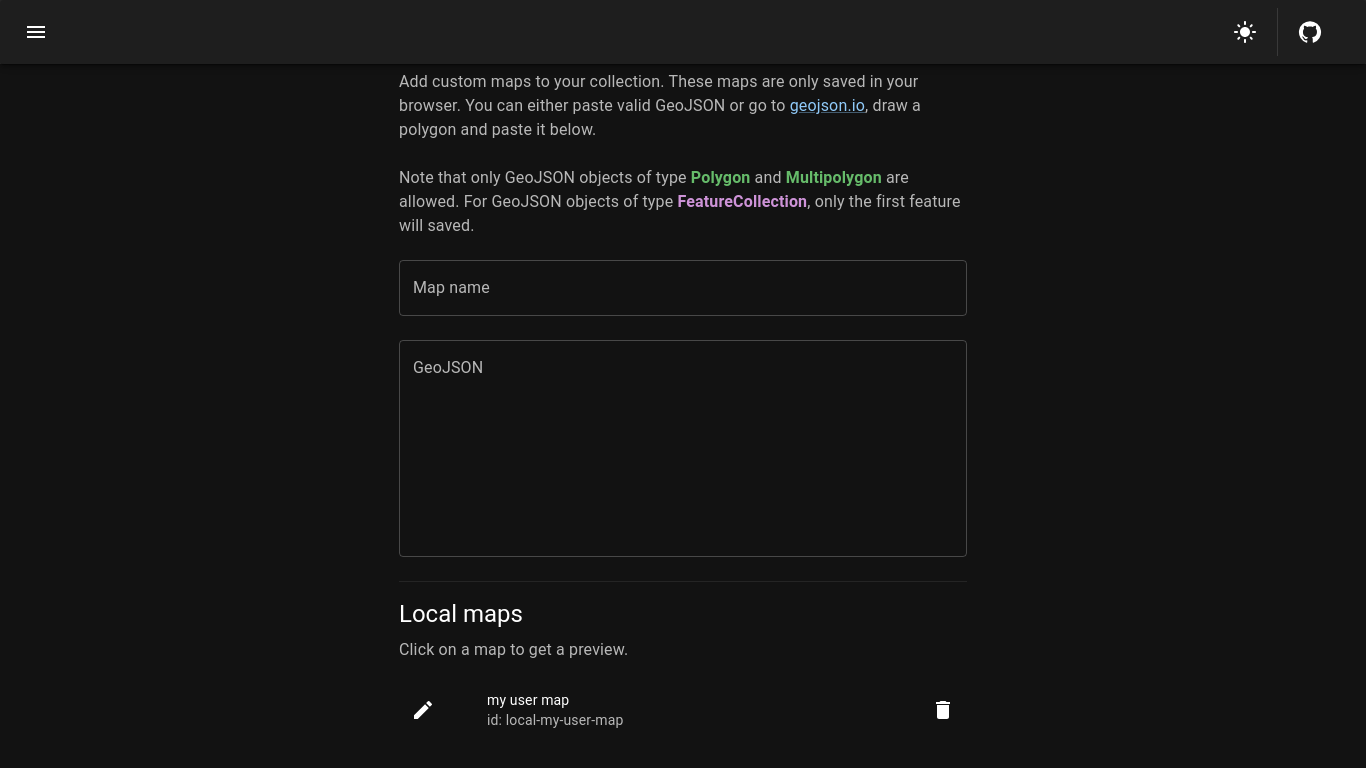
Test case: Integration, local map handling › allows editing local maps
(page scrolled)
Expected: the text box labelled "GeoJSON" is empty, 413,356 -> 953,540
Click the button named "edit-map-icon": (423, 710) 403,690 -> 443,730
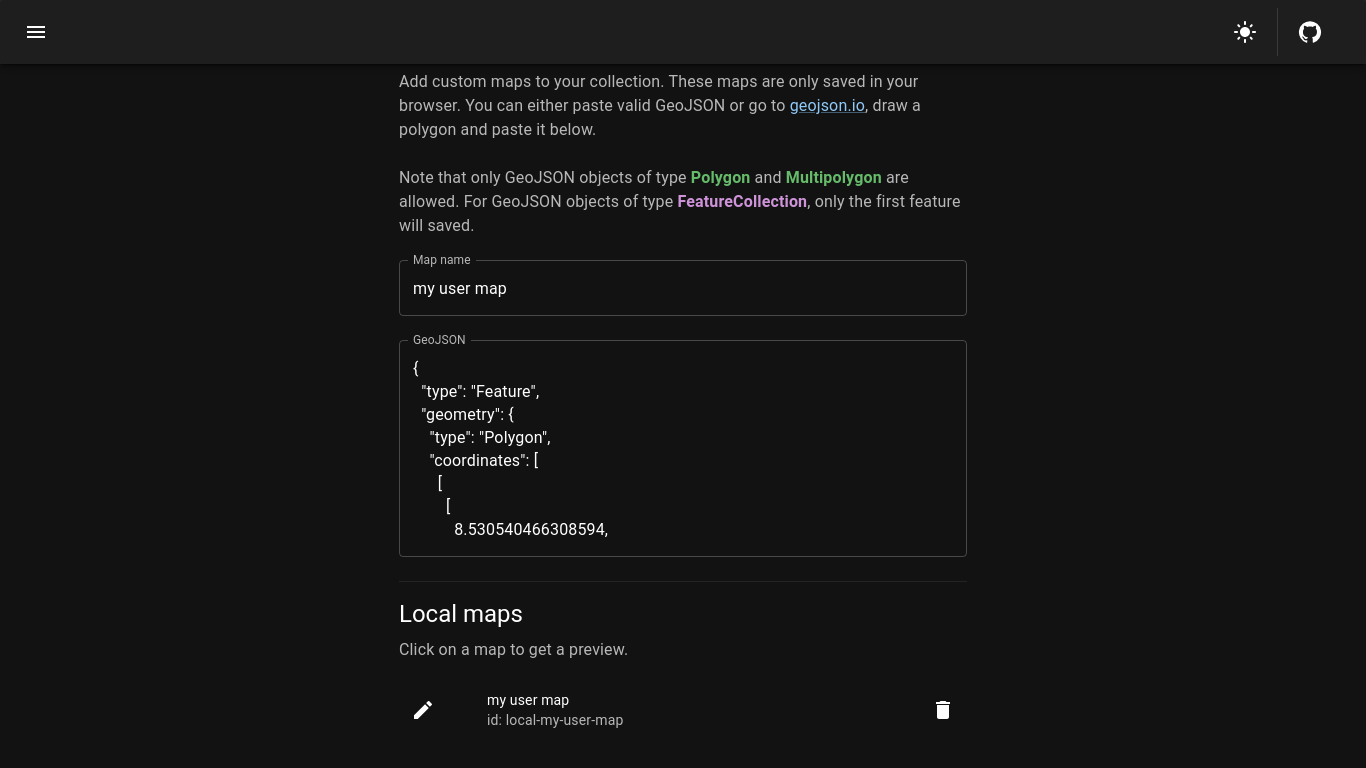
Now the text box labelled "GeoJSON" is not empty, box 413,356 -> 953,540
Now the field labelled "Map name" holds "my user map", box 399,260 -> 967,316
